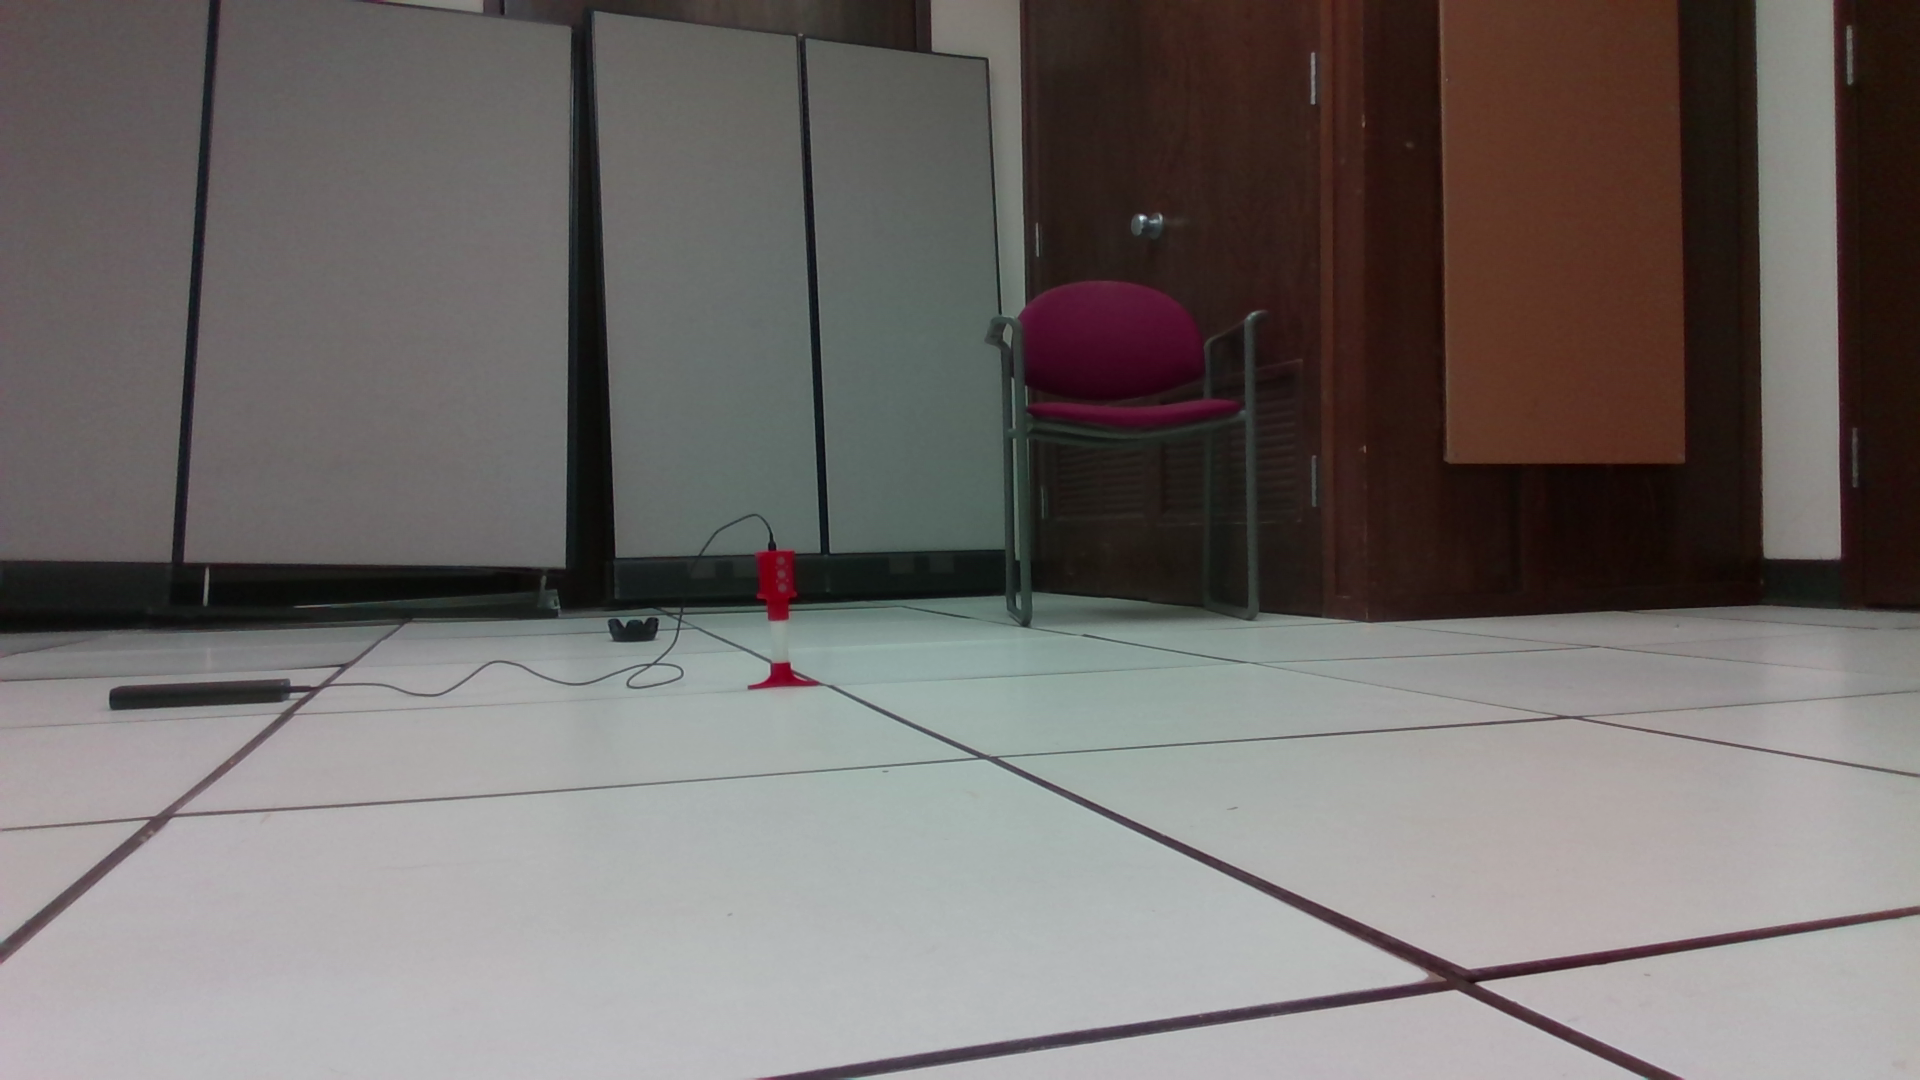stoplight: (753, 549, 800, 621)
